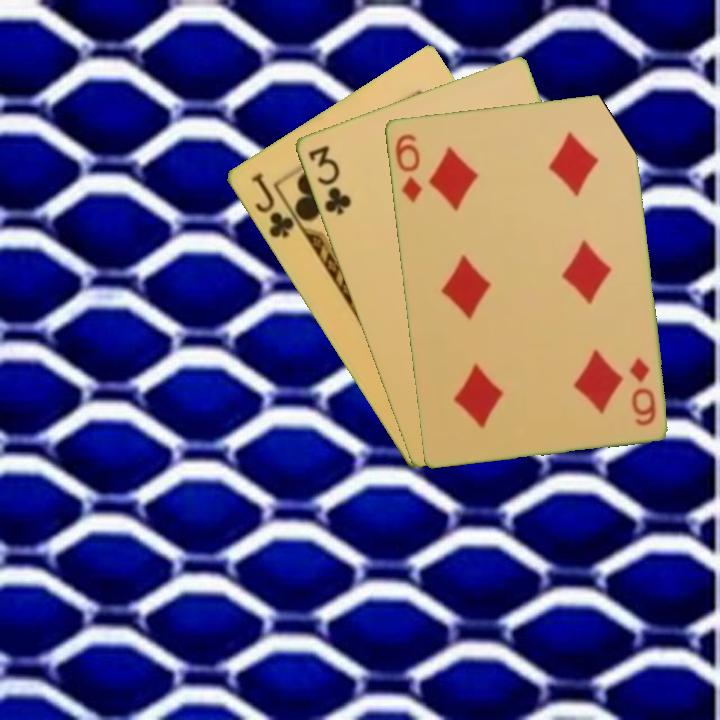3c: (304, 141, 354, 218)
6d: (391, 130, 425, 205), (625, 354, 659, 429)
Jc: (247, 169, 297, 241)
